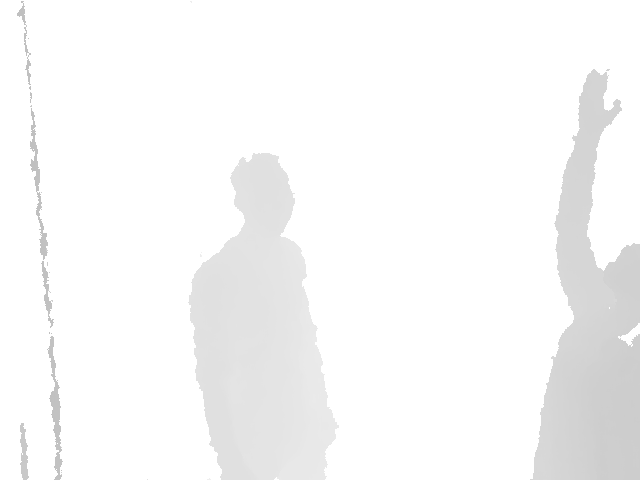hand: (577, 68, 623, 132)
head: (229, 152, 296, 237), (597, 242, 640, 319)
person: (187, 152, 340, 480), (529, 68, 640, 480)
